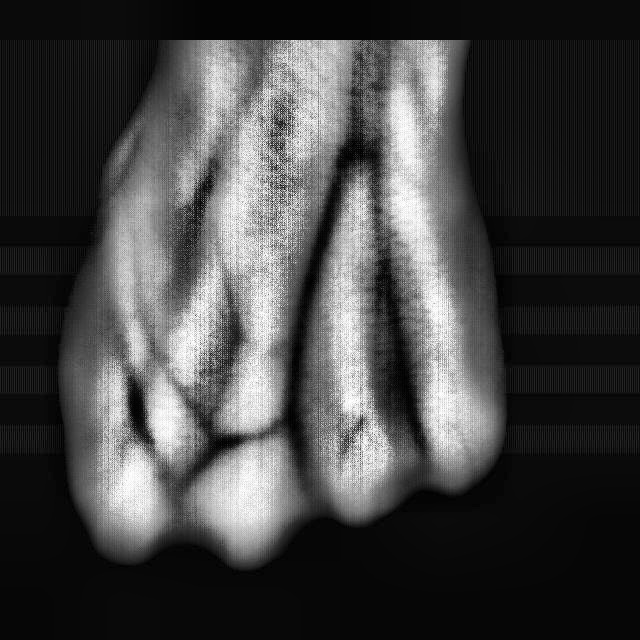Vein: (278, 137, 361, 365)
